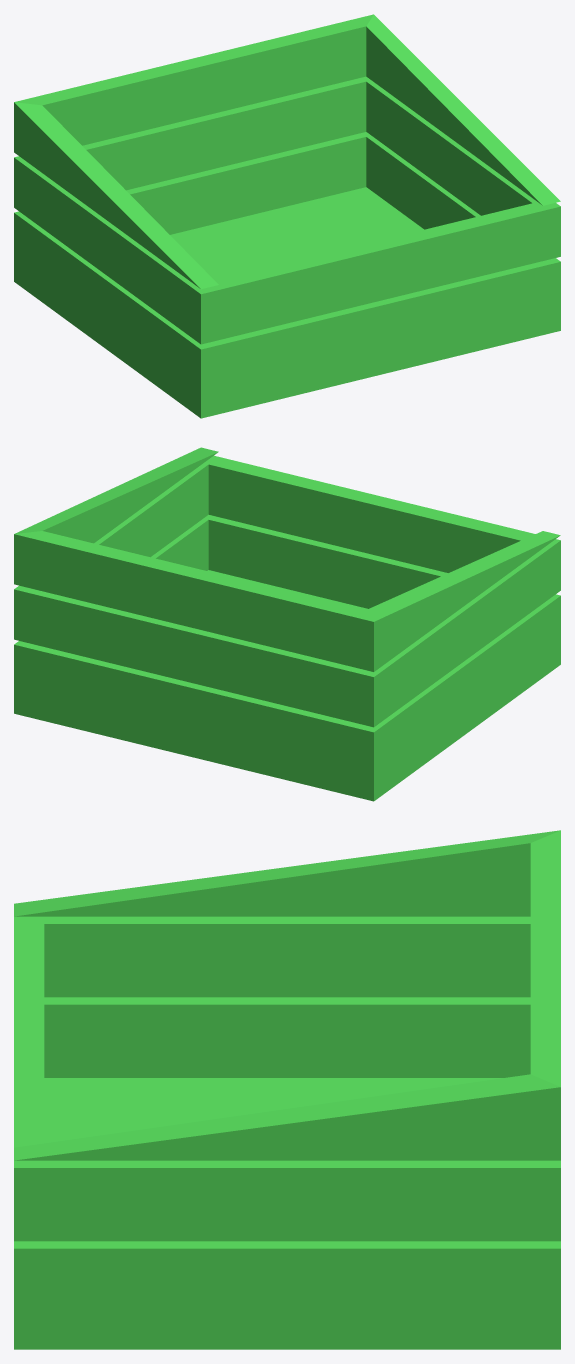
File: SM_town_minibox.fbx
3 renders of one model, top to bottom at view 1: azimuth 30°, elevation 25°; view 2: azimuth 150°, elevation 25°; view 3: azimuth 270°, elevation 25°, orthographic. The views are drawn at different scales.
Visible parts, largest first — view 1: minibox_low; view 2: minibox_low; view 3: minibox_low.
Part boxes in pixels (x1,y1,x2,y2): minibox_low: [14, 14, 560, 418]; minibox_low: [14, 447, 560, 801]; minibox_low: [14, 830, 560, 1349].
Bounding box in the file's own units: 60 × 28.6 × 54.
